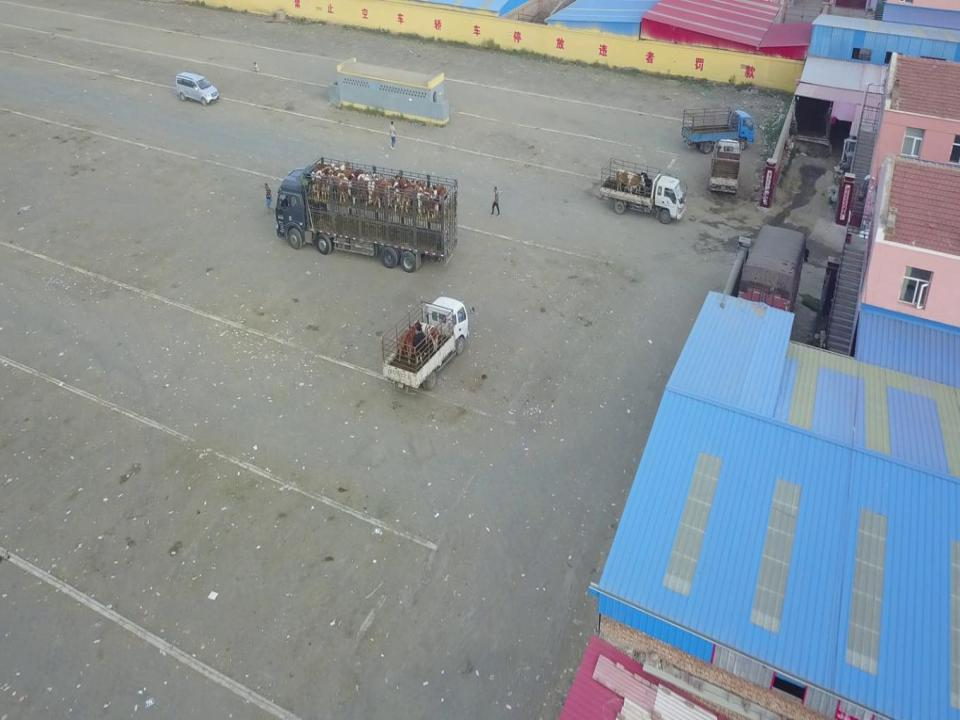truck: (276, 156, 457, 271), (381, 294, 468, 394), (736, 226, 805, 339), (599, 157, 687, 223), (681, 108, 755, 154), (708, 138, 740, 194)
van: (176, 72, 219, 104)
